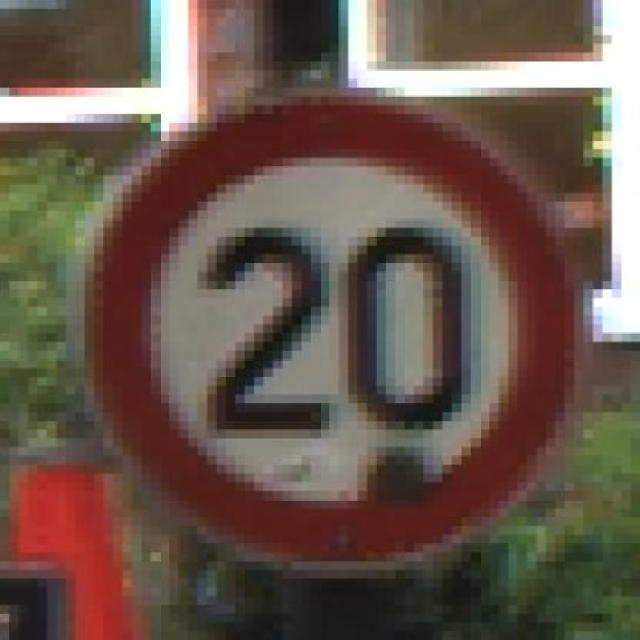Speed Limit 20 KMPh: (56, 52, 602, 605)
